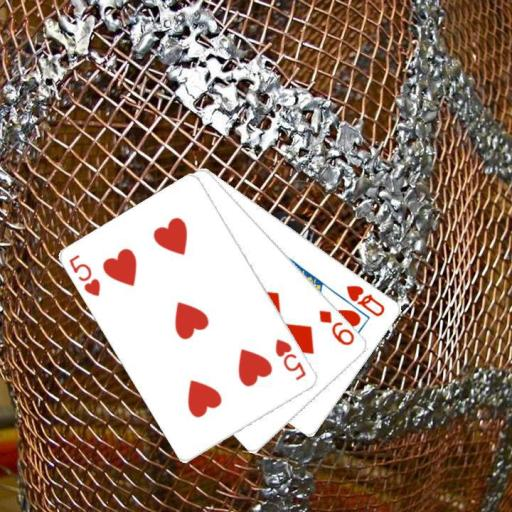5H: (66, 251, 103, 299), (272, 336, 308, 383)
9D: (316, 307, 357, 347)
QH: (343, 281, 387, 318)
